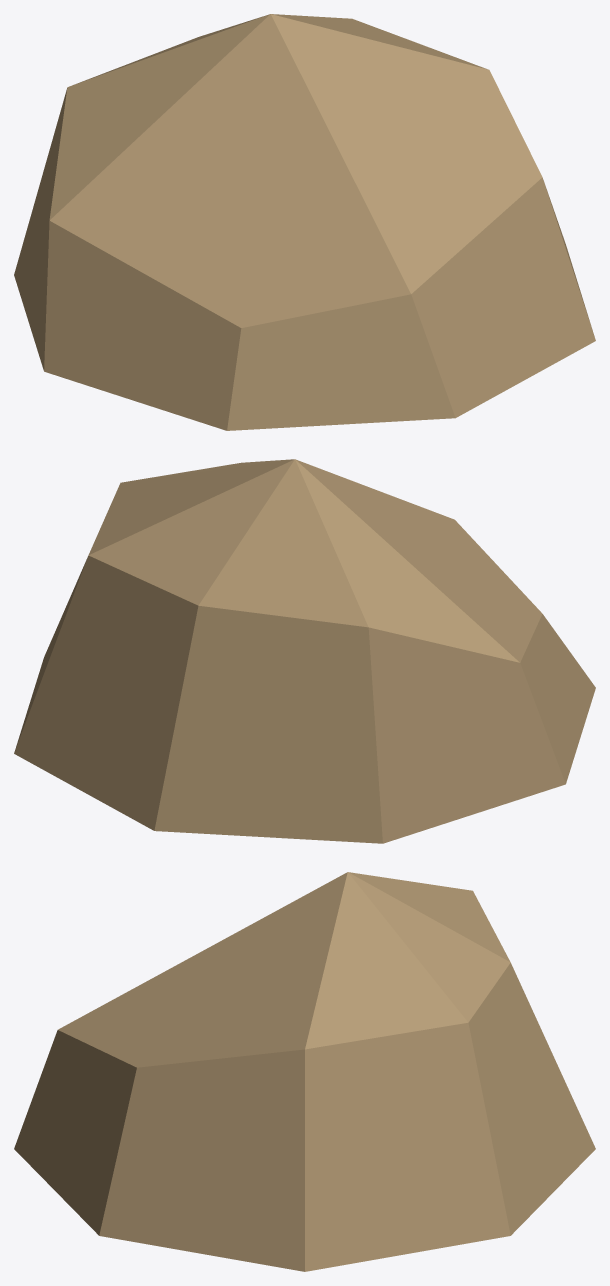
Rendered from Rock_1.fbx.
The picture shows the model from 3 angles, top to bottom: view 1: azimuth 30°, elevation 25°; view 2: azimuth 150°, elevation 25°; view 3: azimuth 270°, elevation 25°; orthographic projection. The views are drawn at different scales.
Visible parts, largest first — view 1: pPlatonic2; view 2: pPlatonic2; view 3: pPlatonic2.
Part boxes in pixels (box(x1,y1,x2,y2)): pPlatonic2: box(14, 14, 595, 430); pPlatonic2: box(14, 459, 595, 843); pPlatonic2: box(14, 872, 595, 1271).
Bounding box in the file's own units: 400 × 206 × 400.
